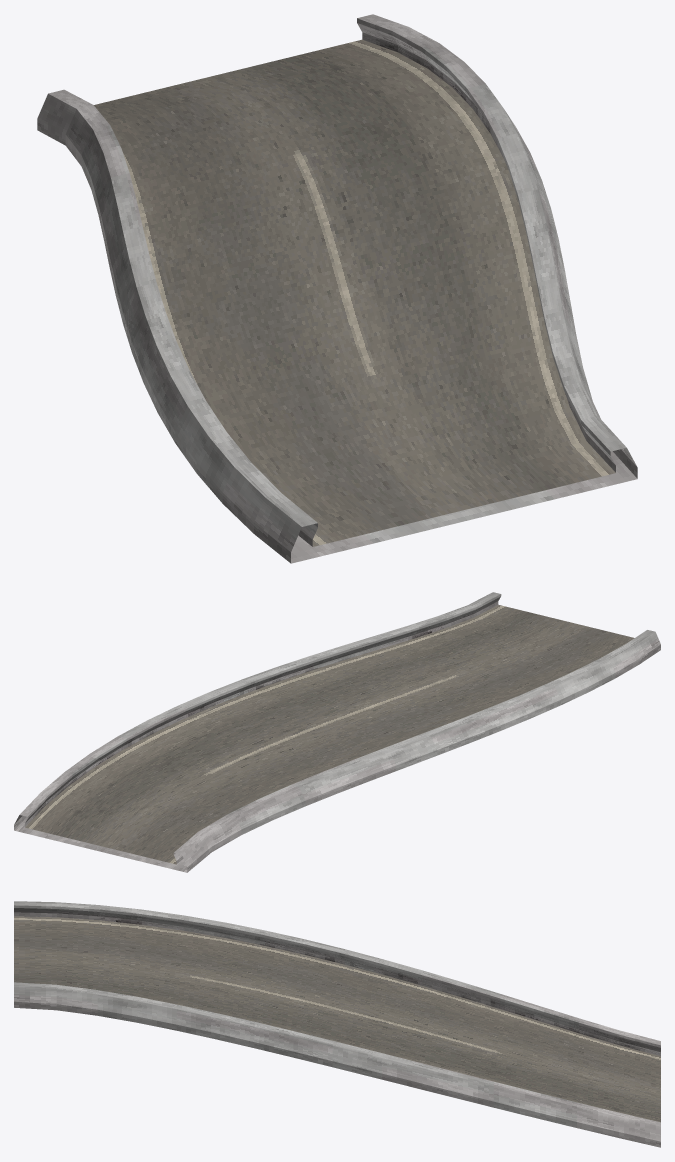
File: chicane-right1x3.glb
The picture shows the model from 3 angles, top to bottom: view 1: azimuth 30°, elevation 25°; view 2: azimuth 150°, elevation 25°; view 3: azimuth 270°, elevation 25°; orthographic projection. The views are drawn at different scales.
Parts seen in each view (by area): view 1: road-Chicane-Flat-BiSlopeDown-Down1-Right1-Size3; view 2: road-Chicane-Flat-BiSlopeDown-Down1-Right1-Size3; view 3: road-Chicane-Flat-BiSlopeDown-Down1-Right1-Size3.
Boxes of the visible parts, x1=… form: road-Chicane-Flat-BiSlopeDown-Down1-Right1-Size3: x1=37, y1=14, x2=637, y2=563; road-Chicane-Flat-BiSlopeDown-Down1-Right1-Size3: x1=14, y1=592, x2=660, y2=872; road-Chicane-Flat-BiSlopeDown-Down1-Right1-Size3: x1=14, y1=901, x2=660, y2=1147.
Bounding box in the file's own units: 2 × 0.3472 × 3.
2 materials, 2 textured.
